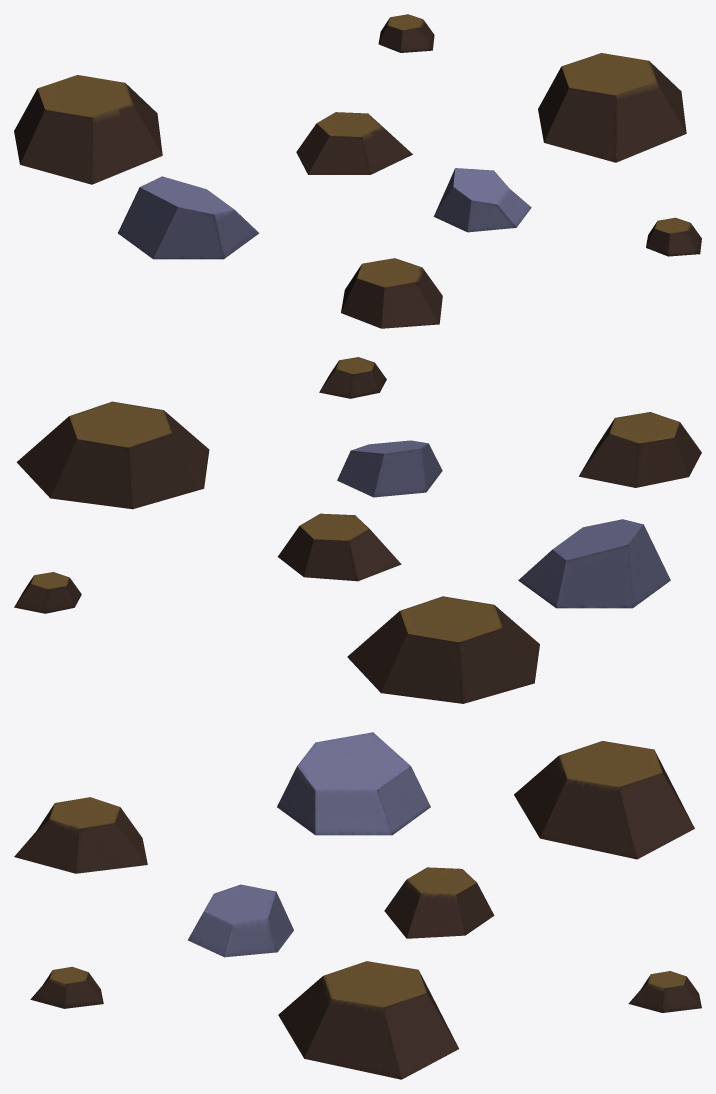
Rendered from tile_wood_5_ruin_lod0.fbx.
The picture shows the model from 3 angles, top to bottom: view 1: azimuth 30°, elevation 25°; view 2: azimuth 150°, elevation 25°; view 3: azimuth 270°, elevation 25°; orthographic projection. The views are drawn at different scales.
Visible parts, largest first — view 1: wood_5_ruin_lod0; view 2: wood_5_ruin_lod0; view 3: wood_5_ruin_lod0.
Boxes of the visible parts, box(x1,y1,x2,y2) form: wood_5_ruin_lod0: box(14, 14, 701, 328); wood_5_ruin_lod0: box(14, 357, 701, 703); wood_5_ruin_lod0: box(14, 732, 701, 1079).
Size of the model in its own units: 0.049 by 0.00407 by 0.047.
